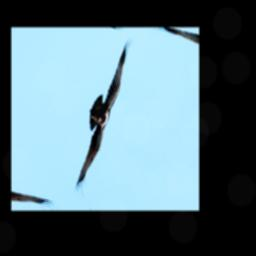Crow: (21, 35, 189, 203)
